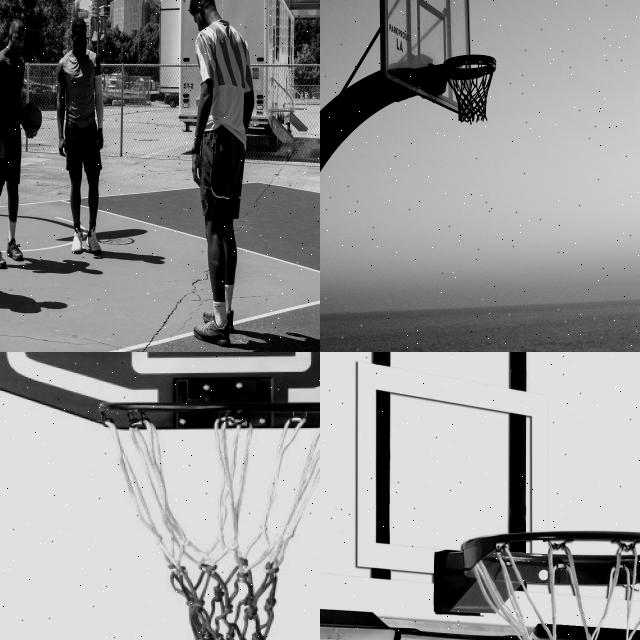backboard: (320, 352, 640, 640), (0, 352, 320, 435), (380, 0, 472, 123)
